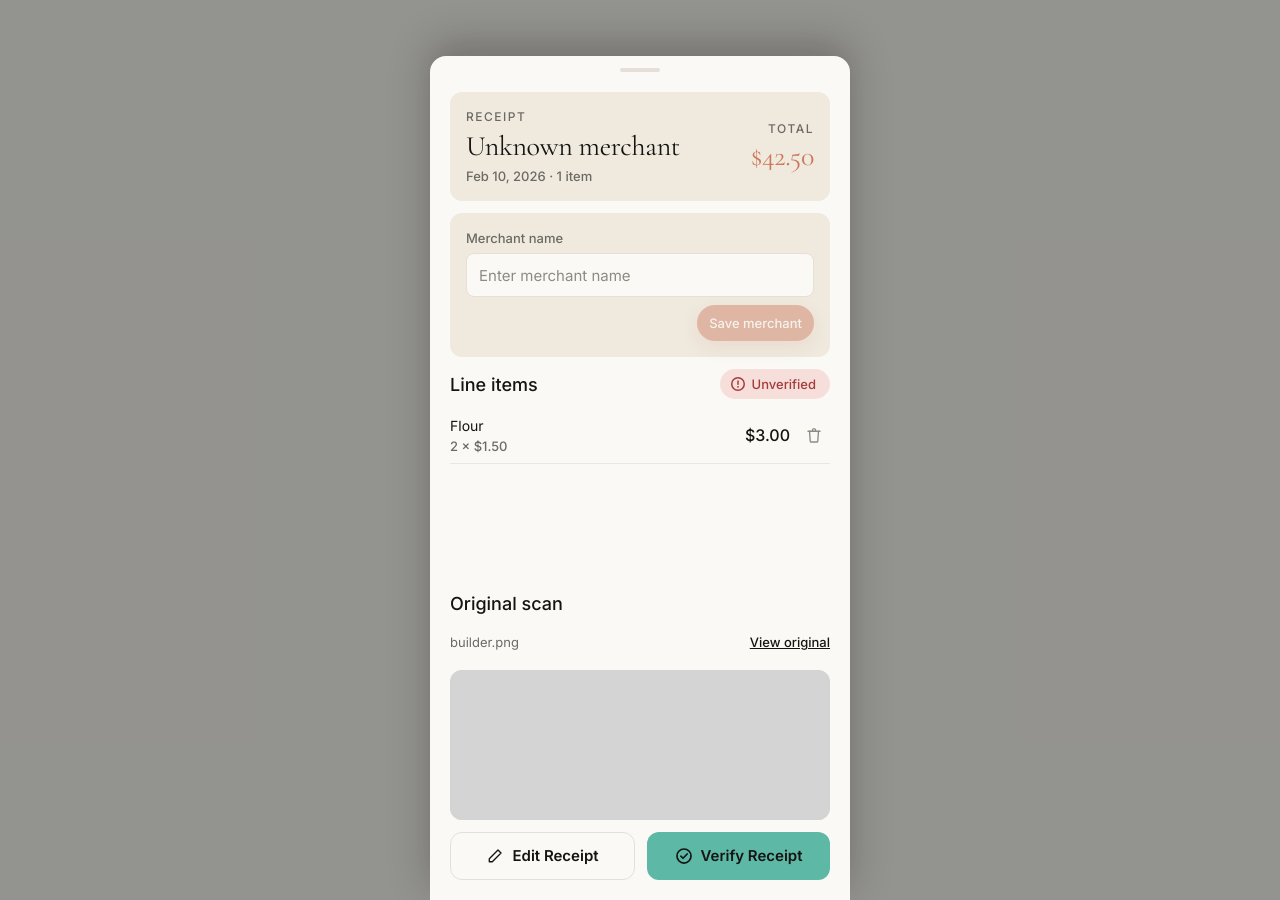
saves a merchant correction during review and retains the filename in details
The width and height of the screenshot is (1280, 900).
expect the heading "Unknown merchant" is shown: met, box [466, 129, 680, 163]
expect the text "builder.png" is shown: met, box [450, 633, 519, 651]
In the field labelled "Merchant name": (640, 275) [466, 253, 814, 297], type "  Market  "
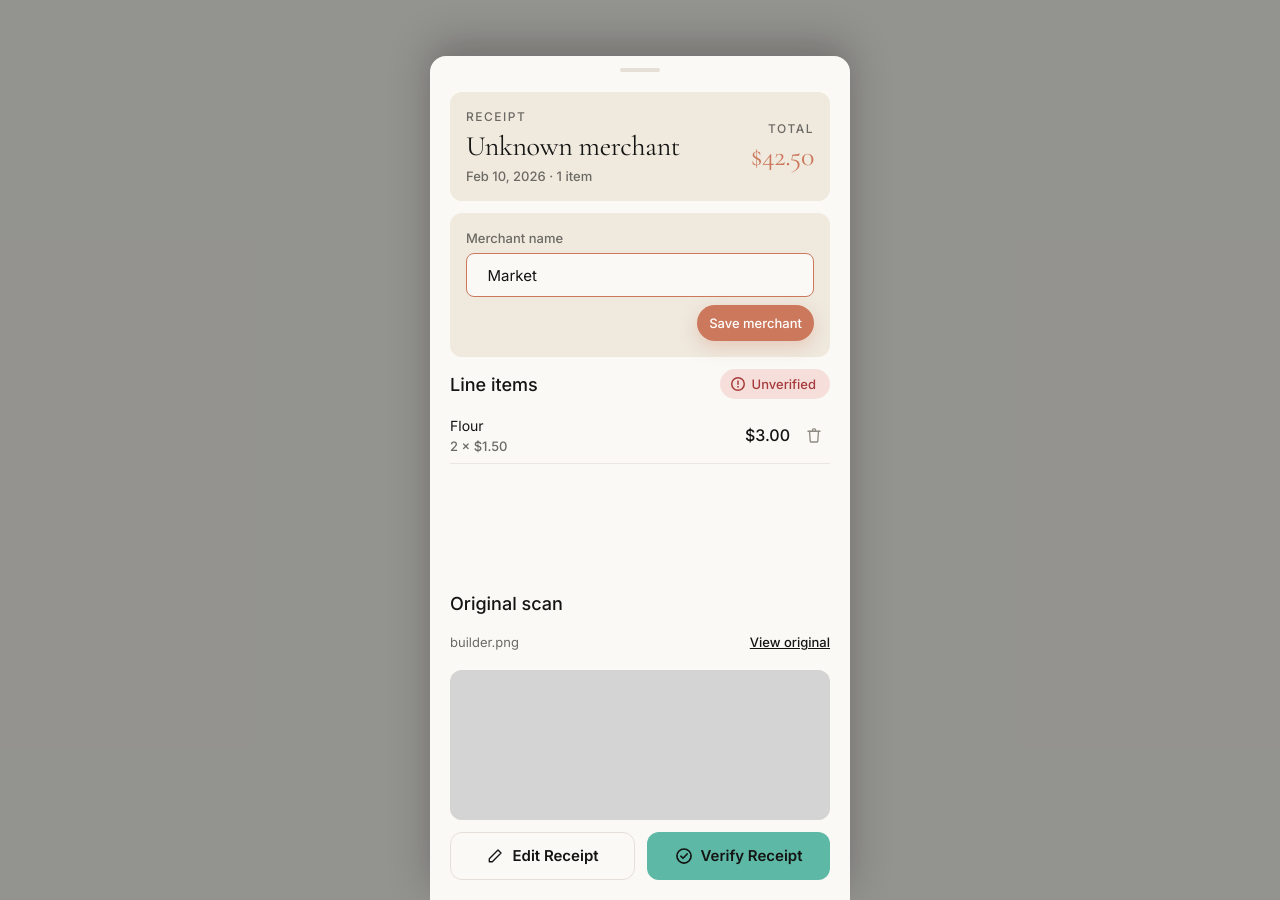
Click the button "Save merchant": (756, 323) [697, 305, 814, 341]
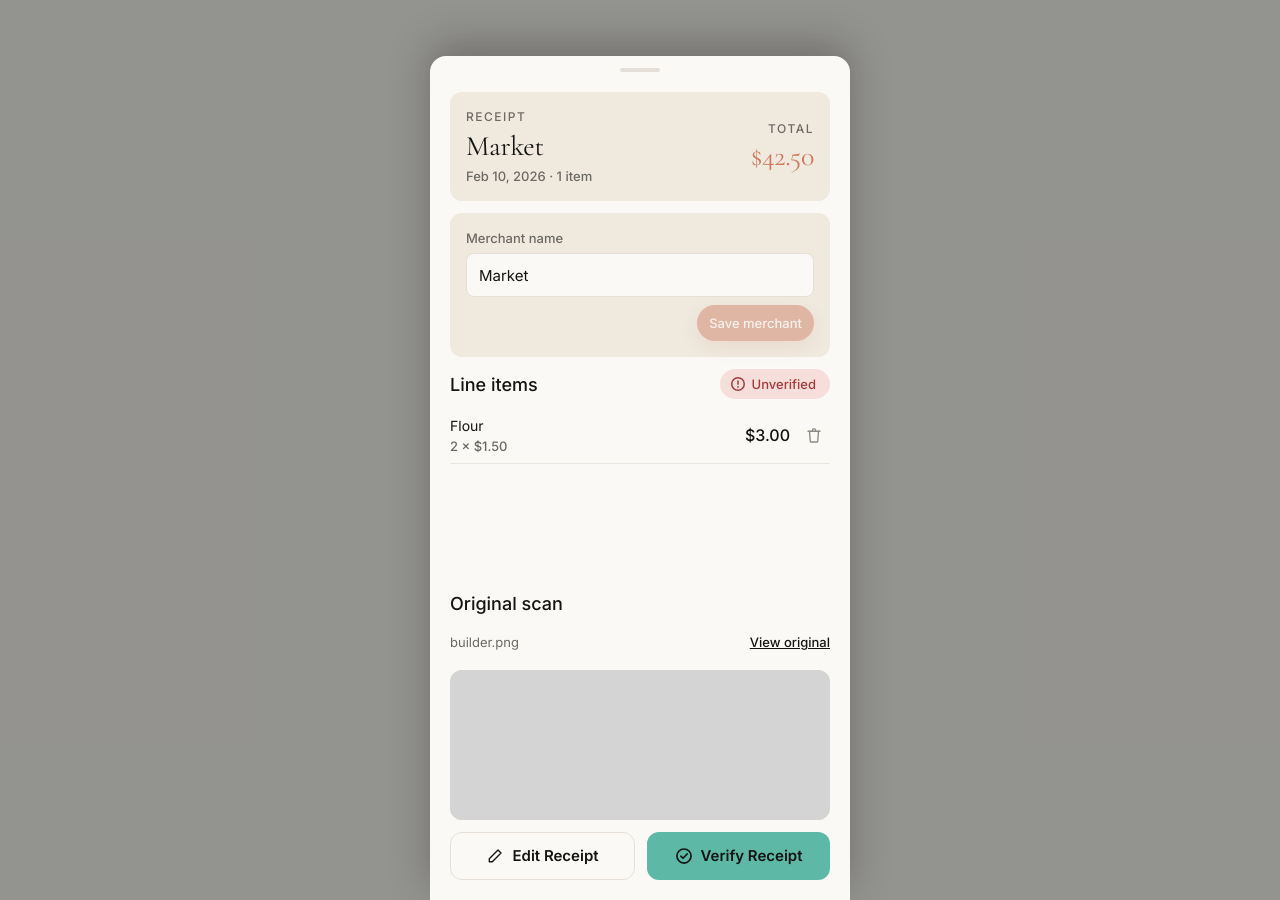
expect the text "Unverified" is shown: met, box [720, 369, 830, 399]
expect the heading "Market" is shown: met, box [466, 129, 544, 163]
